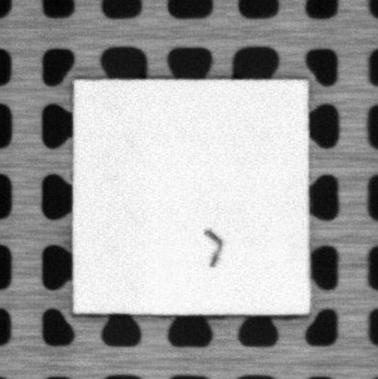DIE_INK: (204, 227, 223, 268)
